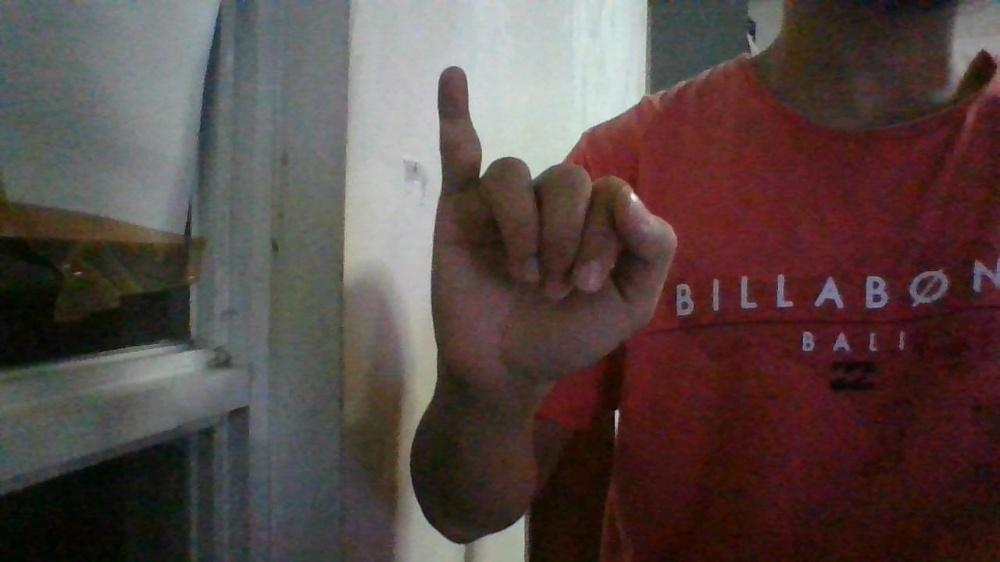i: (429, 63, 679, 380)
